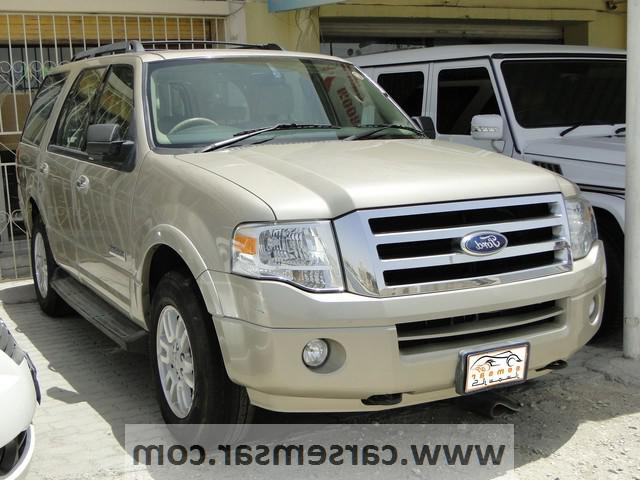Car: (14, 29, 614, 436)
